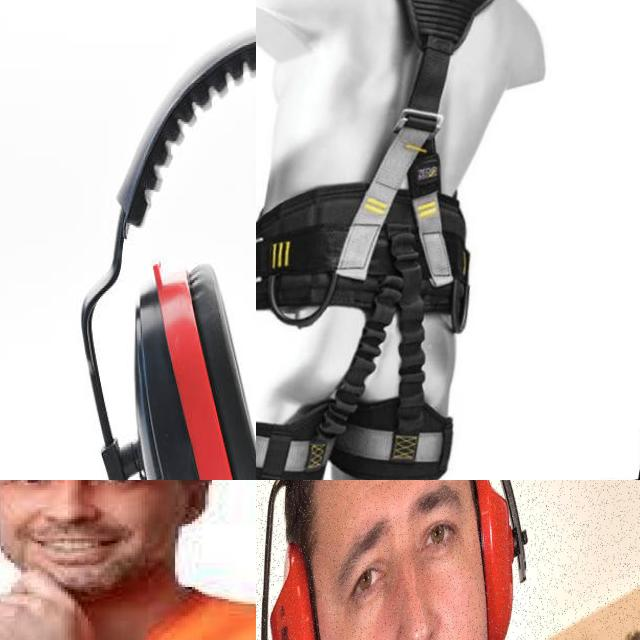Ear-protection: (45, 35, 256, 480), (257, 480, 528, 640)
Harness: (256, 0, 494, 480)
No_Glasses: (329, 482, 472, 609), (0, 480, 160, 499)
face_nomask: (0, 480, 177, 579)
hand_noglove: (0, 569, 100, 640)
person: (257, 480, 640, 640)
vest: (0, 594, 256, 640)
